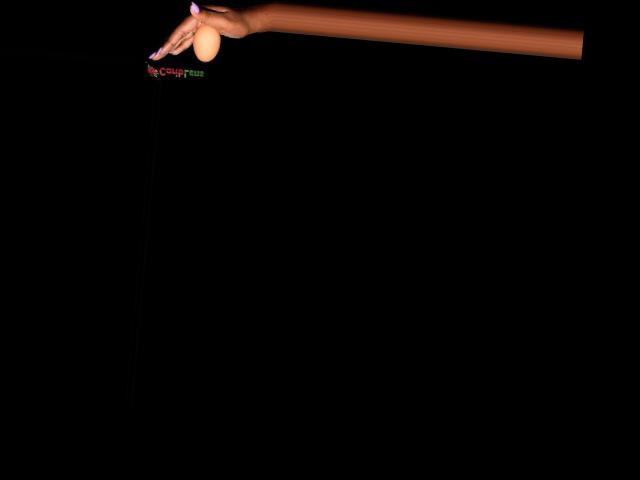egg: (191, 24, 222, 63)
